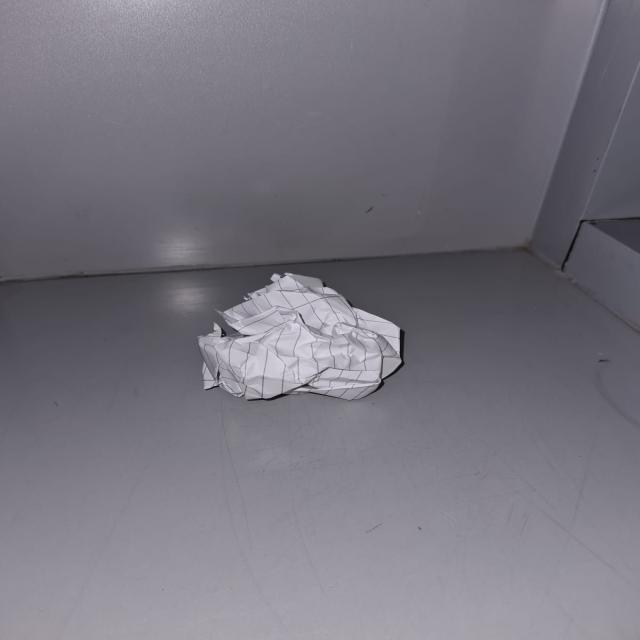Paper: (195, 268, 400, 399)
